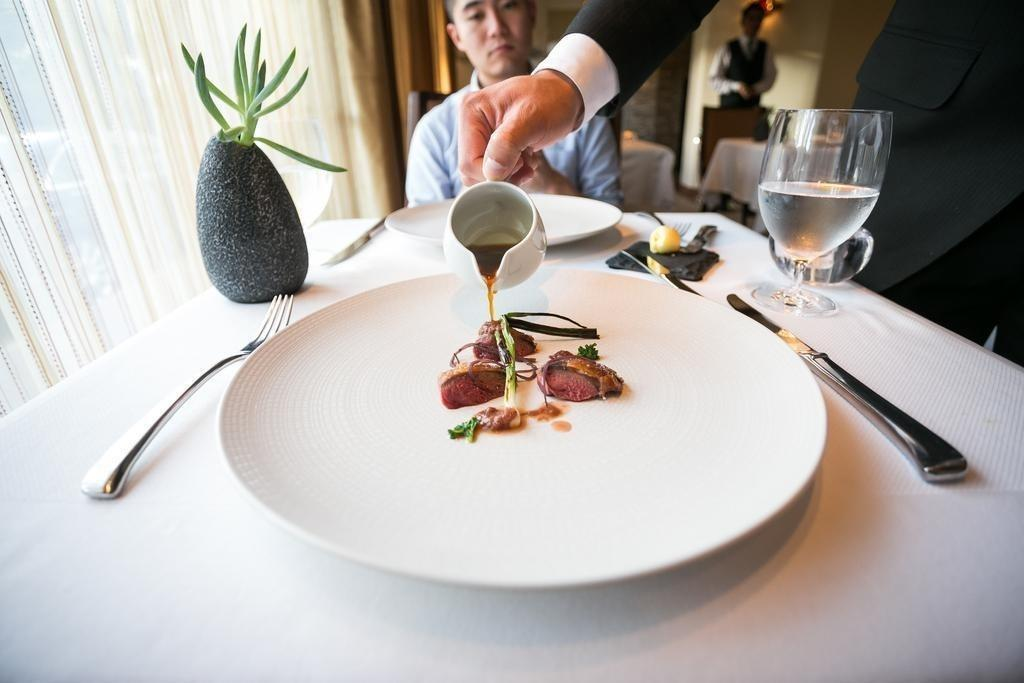glass-wine: (752, 107, 892, 319)
